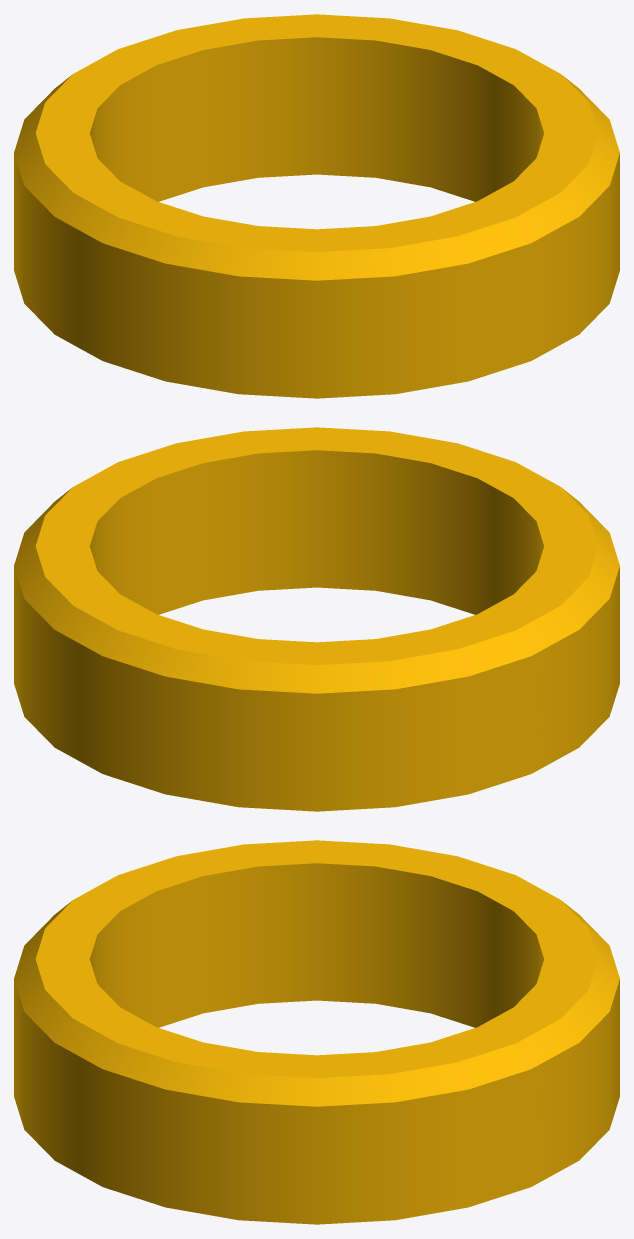
File: ResetButton_Round_Base_01_.fbx
The picture shows the model from 3 angles, top to bottom: view 1: azimuth 30°, elevation 25°; view 2: azimuth 150°, elevation 25°; view 3: azimuth 270°, elevation 25°; orthographic projection.
Visible parts, largest first — view 1: ResetButton_Round_Base_01; view 2: ResetButton_Round_Base_01; view 3: ResetButton_Round_Base_01.
Part boxes in pixels (<box>): ResetButton_Round_Base_01: <box>14,14,619,398</box>; ResetButton_Round_Base_01: <box>14,427,619,811</box>; ResetButton_Round_Base_01: <box>14,840,619,1224</box>.
Bounding box in the file's own units: 100 × 25 × 100.
